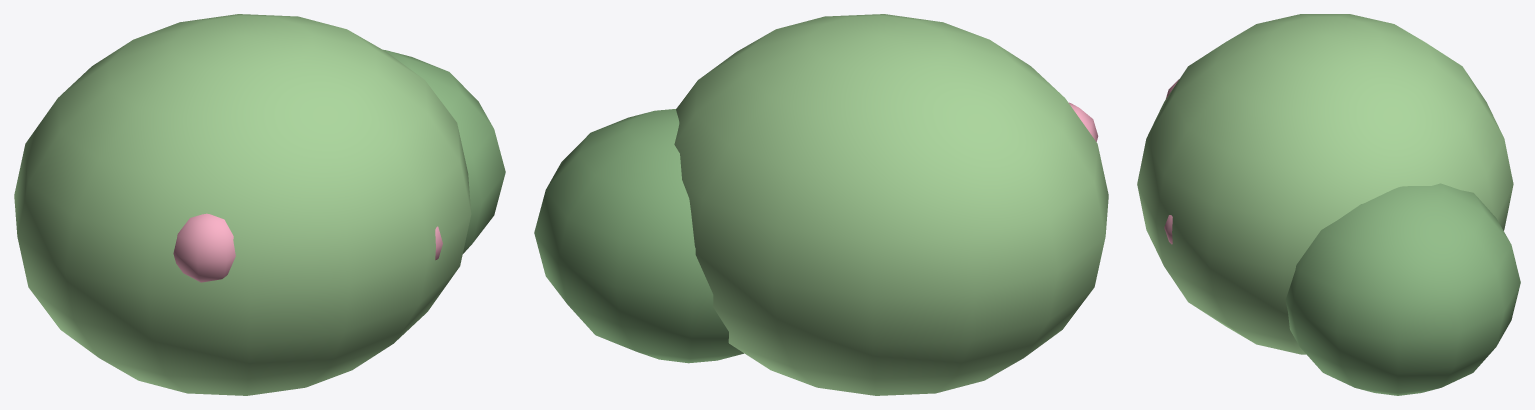
The model's file is bush.fbx.
The picture shows the model from 3 angles, left to right: view 1: azimuth 30°, elevation 25°; view 2: azimuth 150°, elevation 25°; view 3: azimuth 270°, elevation 25°; orthographic projection. The views are drawn at different scales.
Visible parts, largest first — view 1: EN_bush; view 2: EN_bush; view 3: EN_bush.
Boxes of the visible parts, left/top/right/bottom form: EN_bush: left=14, top=14, right=505, bottom=395; EN_bush: left=534, top=14, right=1108, bottom=395; EN_bush: left=1137, top=14, right=1520, bottom=395.
Bounding box in the file's own units: 109 × 71.76 × 84.4.
